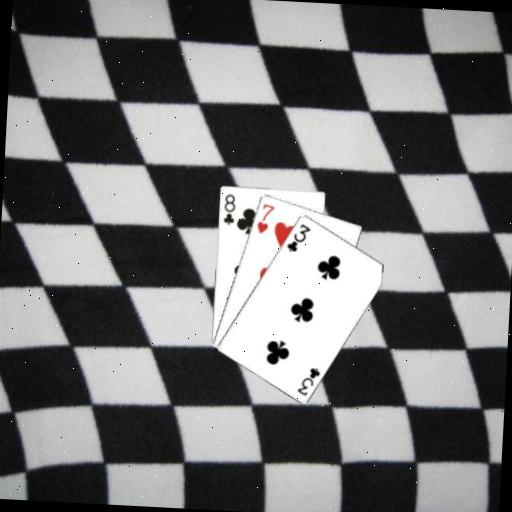3C: (283, 219, 312, 254), (294, 364, 323, 399)
7H: (254, 200, 276, 236)
8C: (220, 191, 237, 227)
